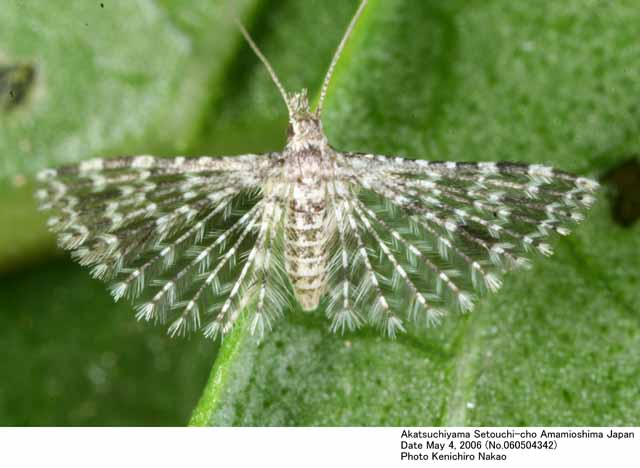Alucitidae: (38, 1, 616, 345)
moth: (40, 2, 618, 347)
